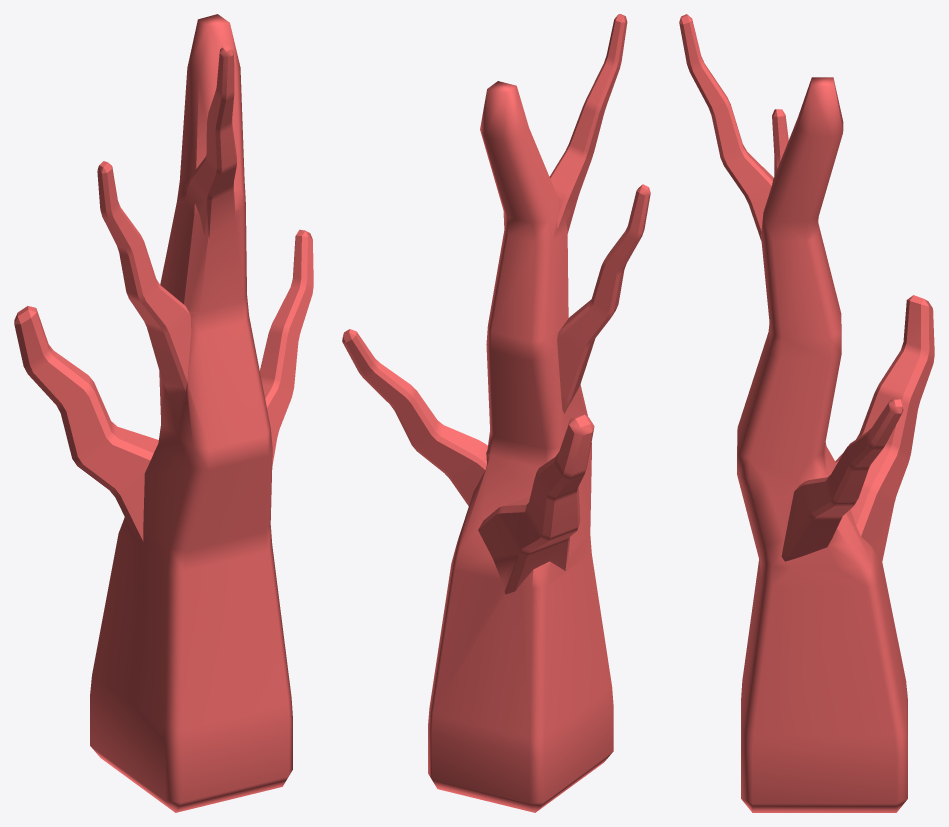
The model's file is coral1.gltf.
3 renders of one model, left to right at view 1: azimuth 30°, elevation 25°; view 2: azimuth 150°, elevation 25°; view 3: azimuth 270°, elevation 25°, orthographic. The views are drawn at different scales.
Bounding box in the file's own units: 1.02 × 2.69 × 0.8251.
